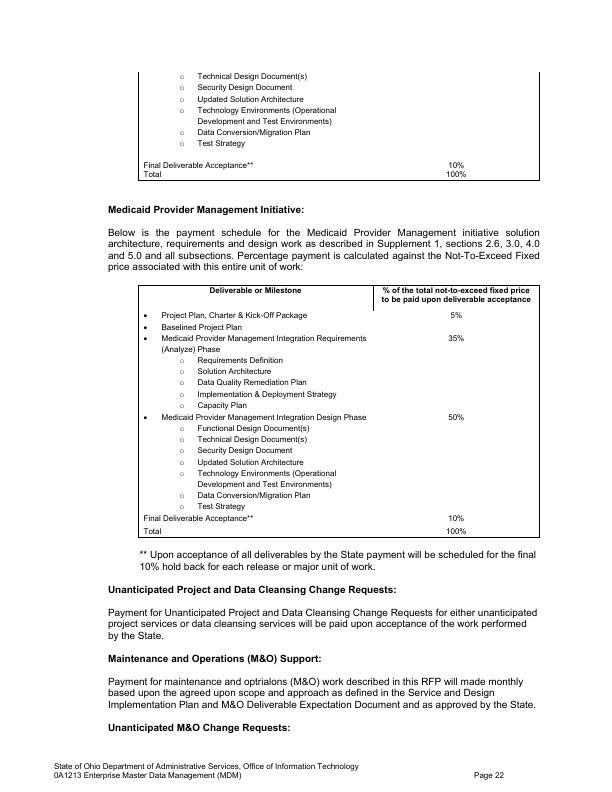table: (133, 280, 544, 541), (129, 65, 549, 186)
text: (104, 652, 543, 736), (104, 202, 546, 274), (106, 580, 545, 644), (138, 548, 540, 576), (49, 755, 366, 784), (468, 766, 511, 784)
